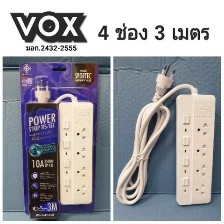book: (16, 59, 102, 221)
three_eye_plug: (170, 91, 217, 209), (53, 98, 95, 208)
